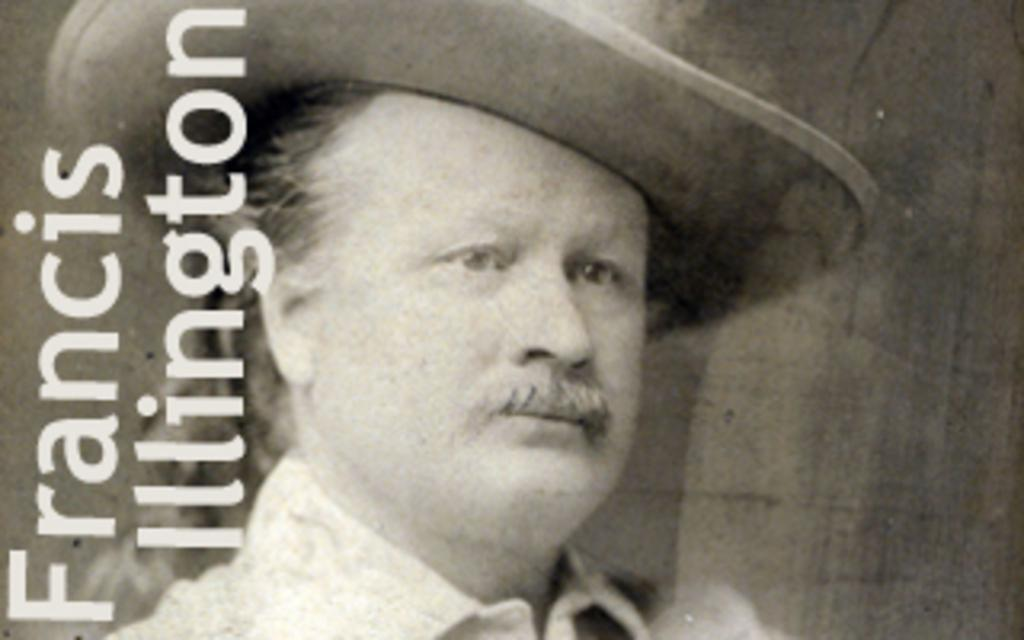Hat: (38, 0, 883, 342)
